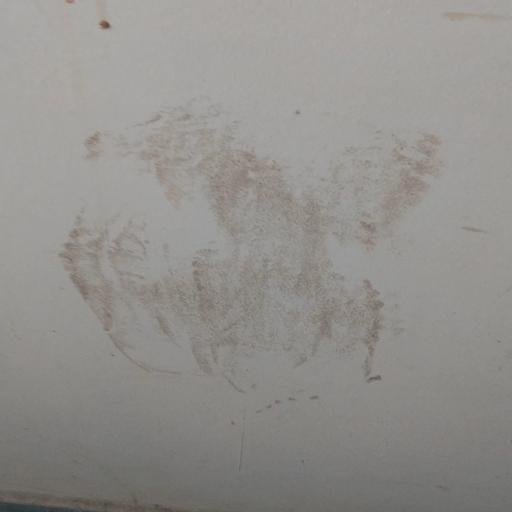stain: (58, 81, 476, 435), (0, 460, 197, 511), (433, 2, 512, 43), (456, 206, 503, 251), (92, 13, 119, 36)
